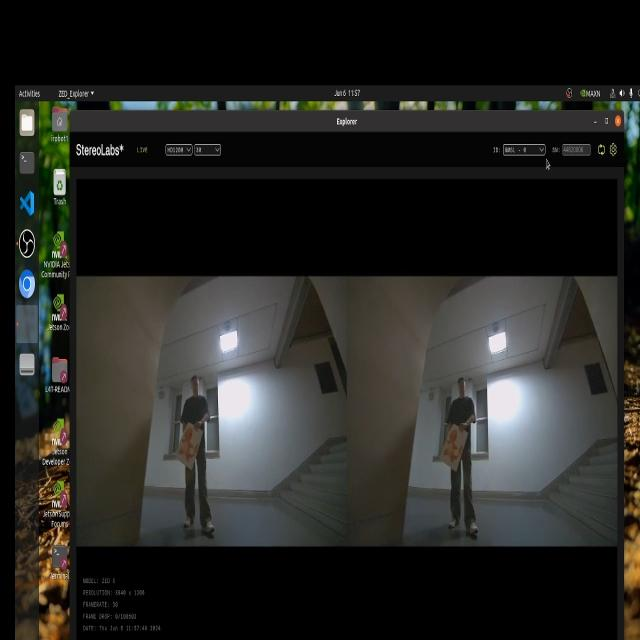red: (443, 428, 465, 473), (179, 424, 199, 467)
